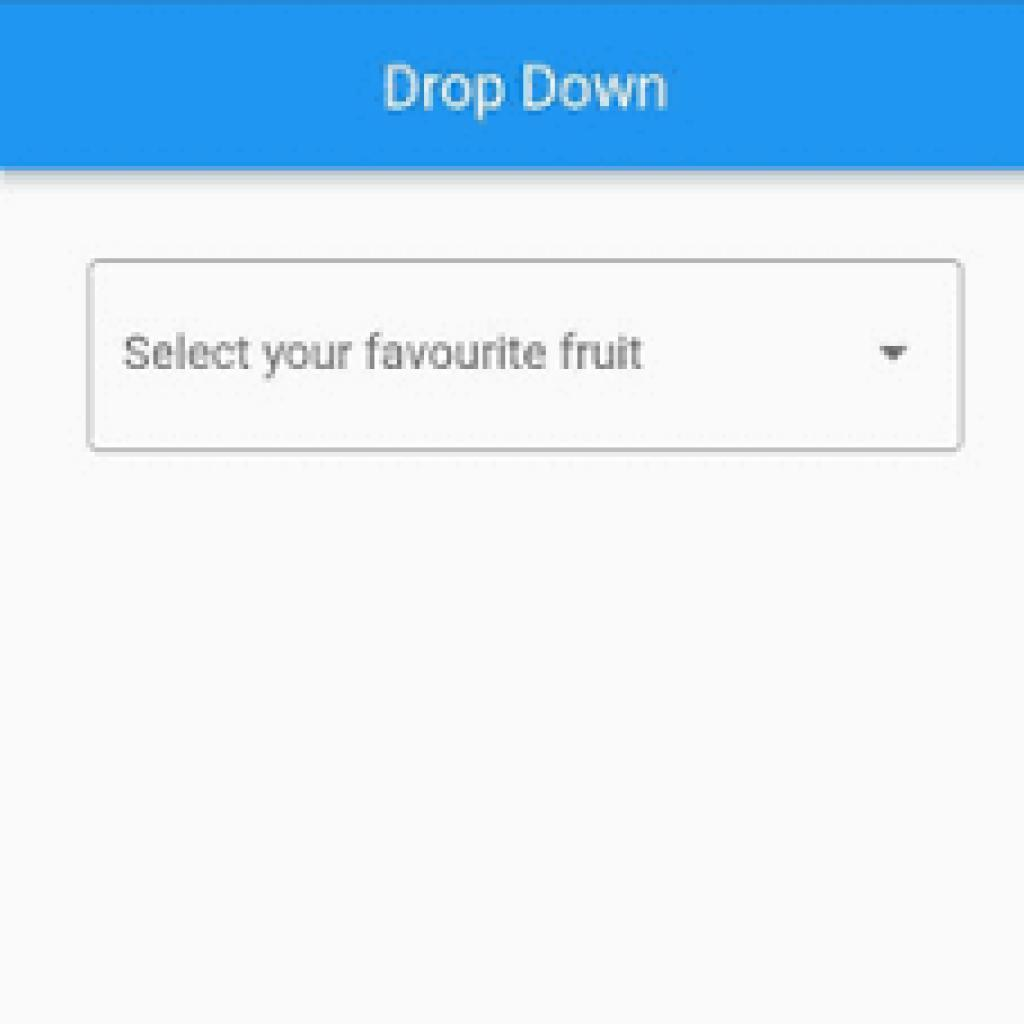dropdown: (90, 262, 964, 454)
